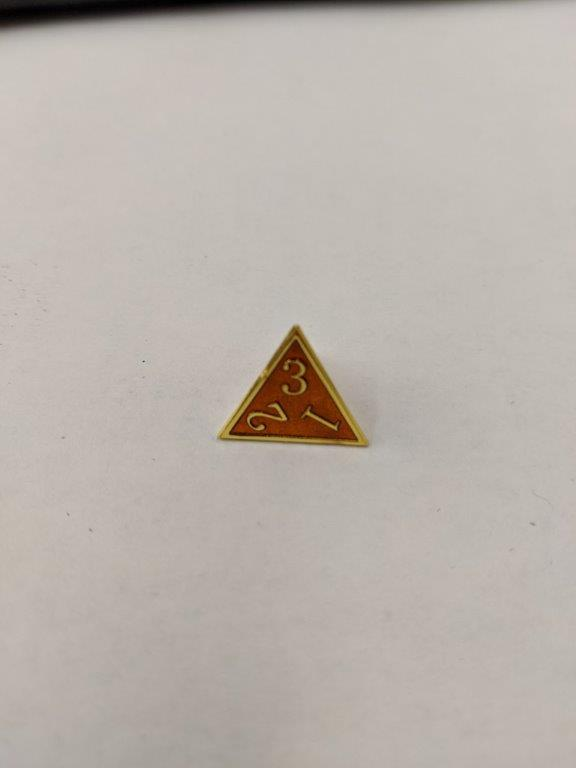d4-3: (215, 322, 375, 454)
